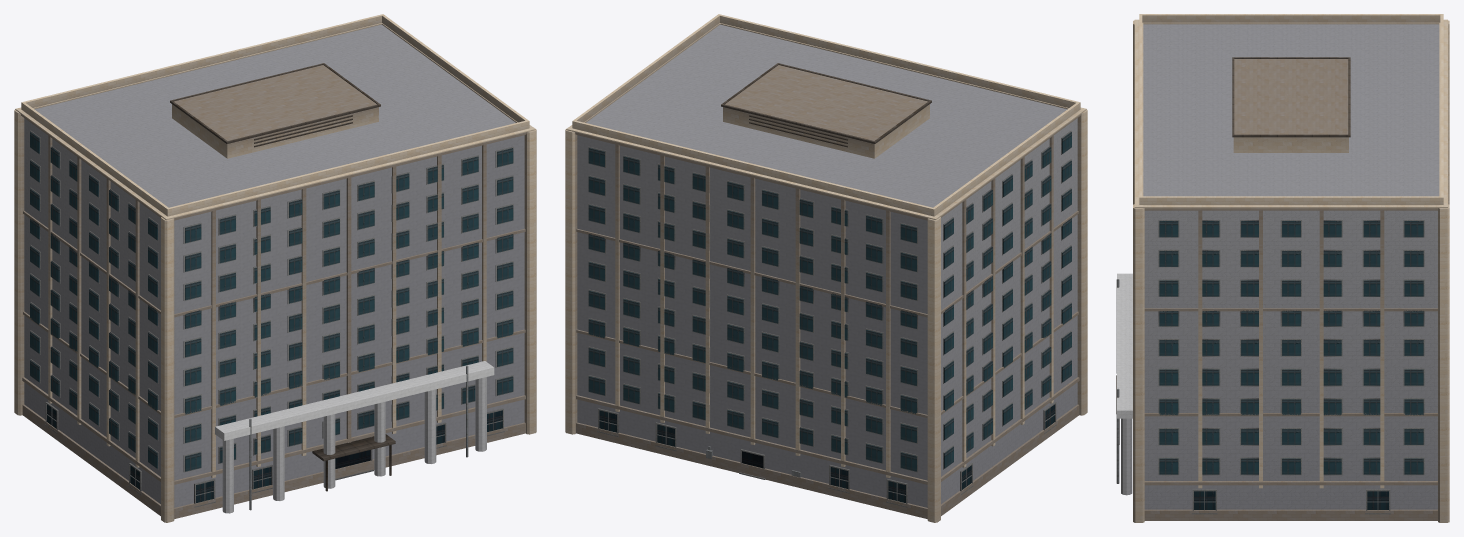
File: civic-office-annex_lod0.gltf
The picture shows the model from 3 angles, left to right: view 1: azimuth 30°, elevation 25°; view 2: azimuth 150°, elevation 25°; view 3: azimuth 270°, elevation 25°; orthographic projection. The views are drawn at different scales.
Visible parts, largest first — view 1: civic-office-annex_main, civic-office-annex__v4_stone_detail, civic-office-annex_fen_07-glass-curtain-blue_1, civic-office-annex_fen_06-granite_0, civic-office-annex_colonnade, civic-office-annex__v4_metal_detail; view 2: civic-office-annex_main, civic-office-annex__v4_stone_detail, civic-office-annex_fen_07-glass-curtain-blue_1, civic-office-annex_fen_06-granite_0, civic-office-annex__v4_metal_detail; view 3: civic-office-annex_main, civic-office-annex__v4_stone_detail, civic-office-annex_fen_07-glass-curtain-blue_1, civic-office-annex_fen_06-granite_0, civic-office-annex_colonnade, civic-office-annex__v4_metal_detail.
Boxes of the visible parts, left/top/right/bottom form: civic-office-annex_main: left=24, top=24, right=524, bottom=507; civic-office-annex__v4_stone_detail: left=14, top=14, right=536, bottom=522; civic-office-annex_fen_07-glass-curtain-blue_1: left=30, top=132, right=513, bottom=502; civic-office-annex_fen_06-granite_0: left=30, top=130, right=513, bottom=507; civic-office-annex_colonnade: left=215, top=361, right=494, bottom=513; civic-office-annex__v4_metal_detail: left=170, top=63, right=395, bottom=491; civic-office-annex_main: left=577, top=24, right=1077, bottom=507; civic-office-annex__v4_stone_detail: left=565, top=14, right=1087, bottom=522; civic-office-annex_fen_07-glass-curtain-blue_1: left=588, top=132, right=1071, bottom=502; civic-office-annex_fen_06-granite_0: left=588, top=130, right=1071, bottom=507; civic-office-annex__v4_metal_detail: left=721, top=63, right=931, bottom=147; civic-office-annex_main: left=1143, top=24, right=1439, bottom=509; civic-office-annex__v4_stone_detail: left=1133, top=14, right=1449, bottom=522; civic-office-annex_fen_07-glass-curtain-blue_1: left=1159, top=221, right=1423, bottom=509; civic-office-annex_fen_06-granite_0: left=1158, top=220, right=1424, bottom=514; civic-office-annex_colonnade: left=1117, top=273, right=1132, bottom=495; civic-office-annex__v4_metal_detail: left=1116, top=57, right=1350, bottom=444.
Size of the model in its own units: 51.53 by 42.32 by 38.47.
